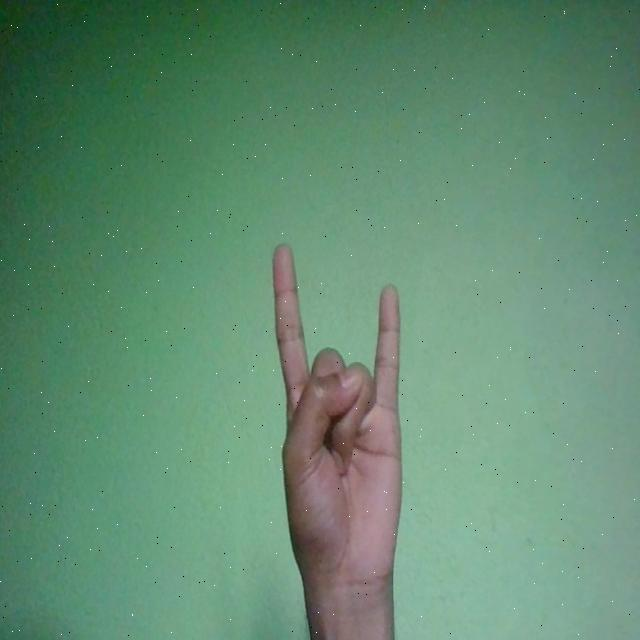open Plam: (271, 241, 403, 601)
